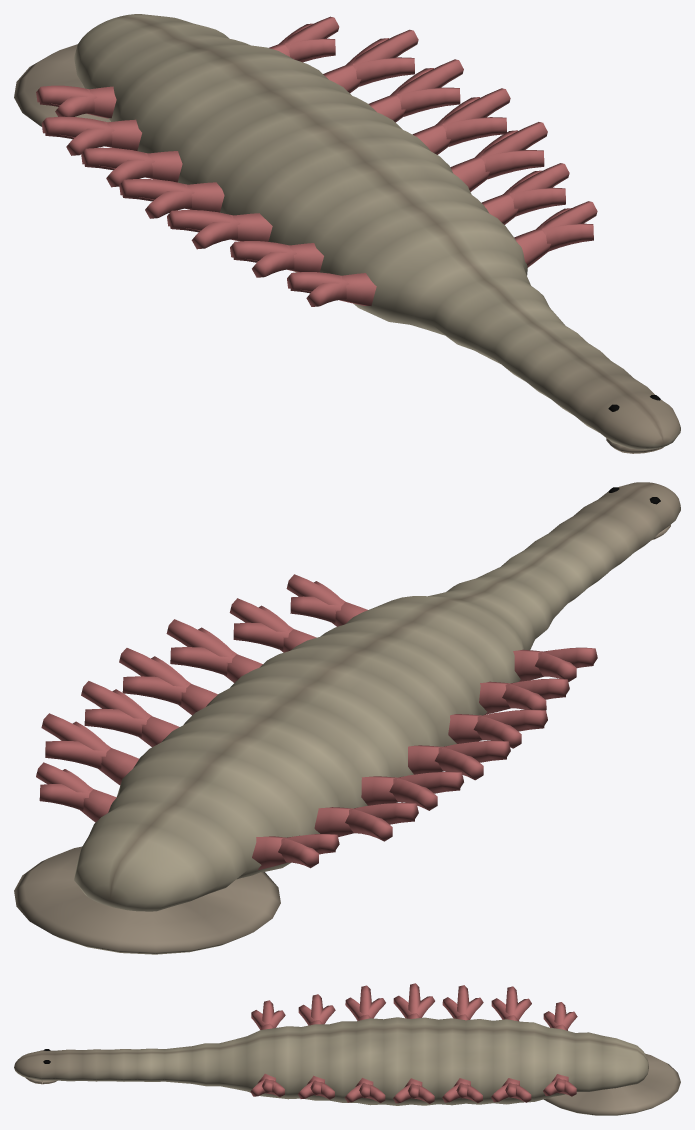
The model's file is TurtleLeech.fbx.
The picture shows the model from 3 angles, top to bottom: view 1: azimuth 30°, elevation 25°; view 2: azimuth 150°, elevation 25°; view 3: azimuth 270°, elevation 25°; orthographic projection. The views are drawn at different scales.
Parts seen in each view (by area): view 1: TurtleLeech; view 2: TurtleLeech; view 3: TurtleLeech.
Boxes of the visible parts, x1=… form: TurtleLeech: x1=14, y1=14, x2=680, y2=453; TurtleLeech: x1=14, y1=482, x2=680, y2=954; TurtleLeech: x1=14, y1=983, x2=680, y2=1115.
Size of the model in its own units: 0.7255 by 0.2 by 1.89.
